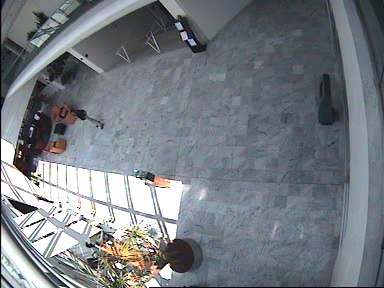person: (70, 107, 102, 130)
